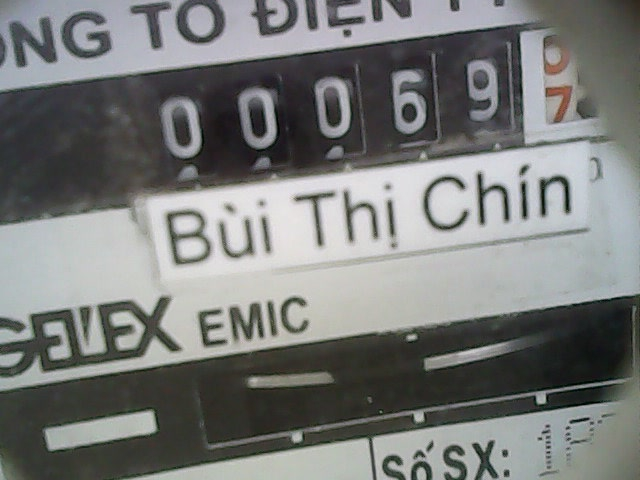phy_plate: (134, 25, 617, 184)
